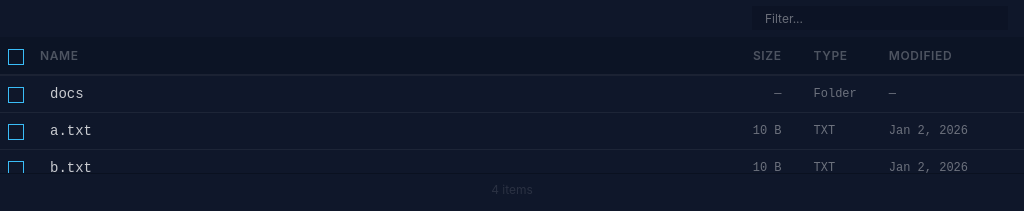
FileExplorer › clipboard › copies the selection
This screenshot has width=1024, height=211.
Expected: the text "docs" is shown, [50, 84, 84, 104]
Click the text "a.txt" at (512, 132), box [0, 113, 1023, 150]
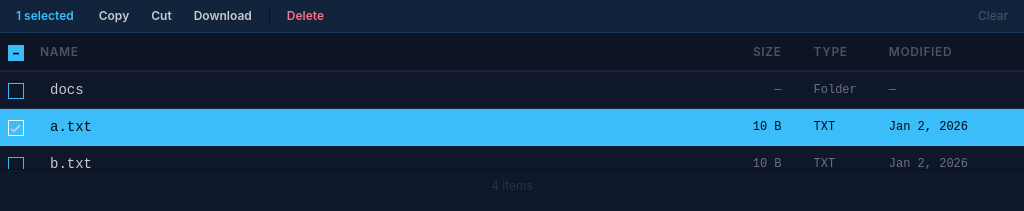
Press c
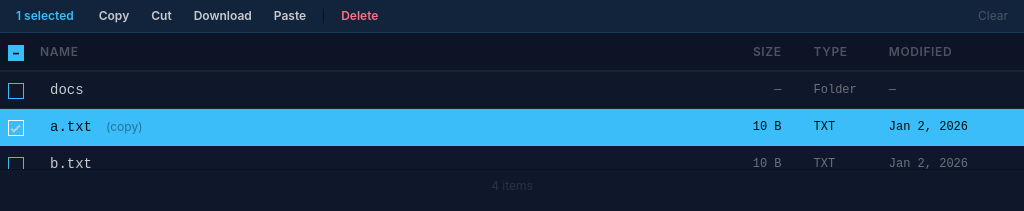
Now the text "(copy)" is shown, box [106, 119, 142, 135]
